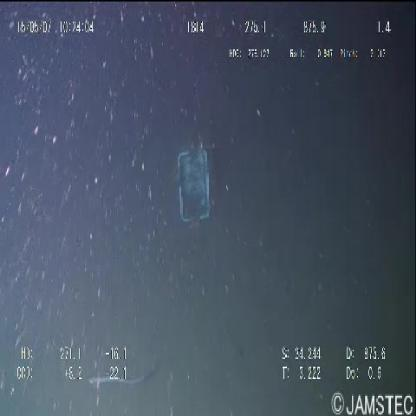Rác: (178, 153, 211, 227)
